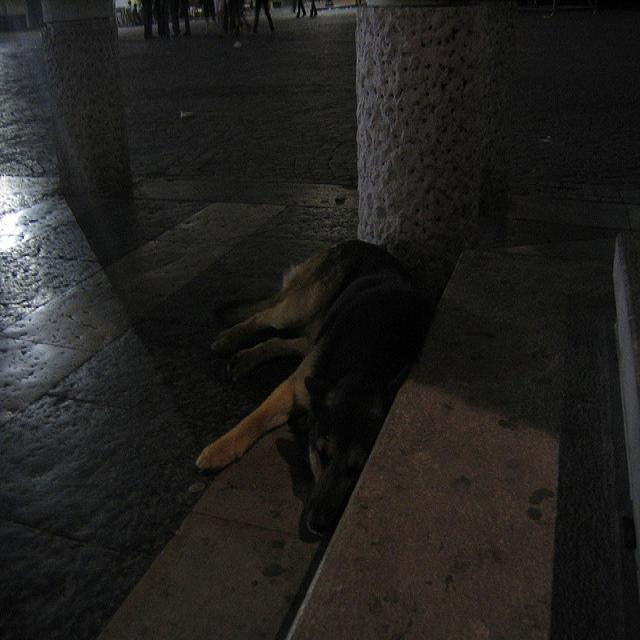dog: (190, 202, 437, 544)
